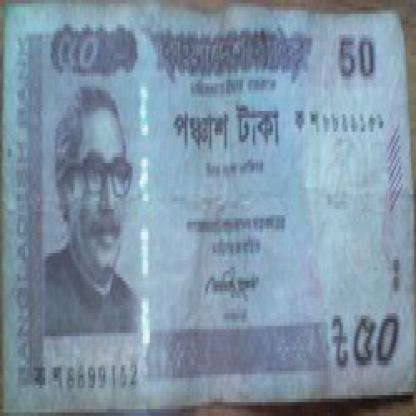Fifty taka: (43, 14, 105, 80), (348, 312, 399, 378)
